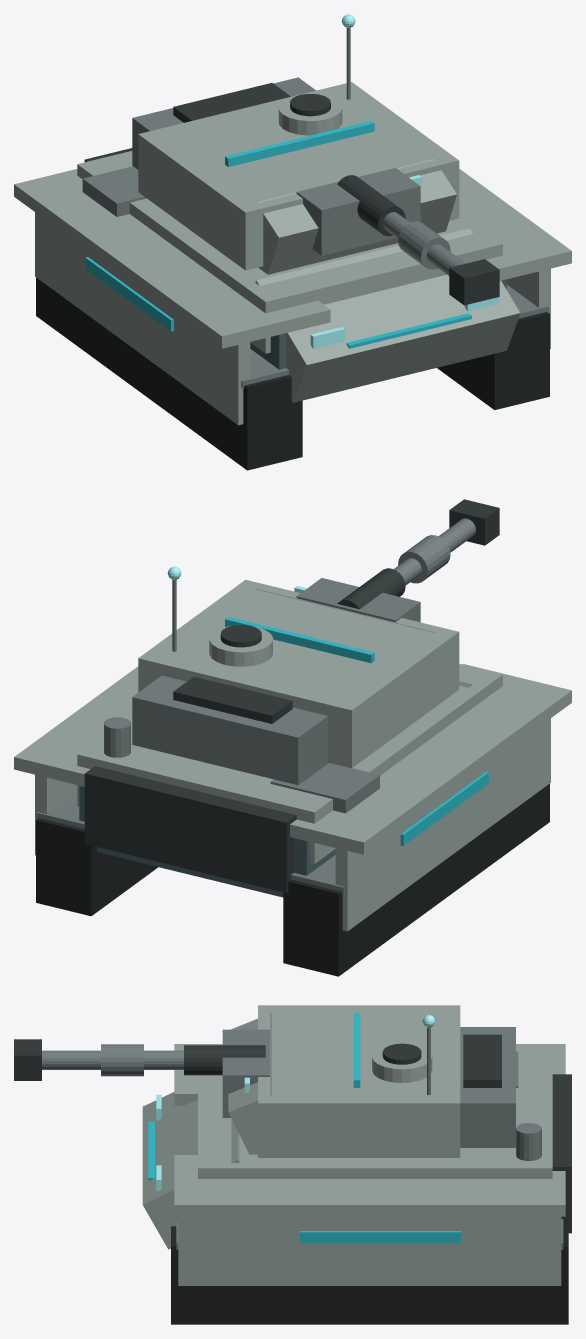
File: vanguard_tank.glb
3 views of the same model, one above another, from view 1: azimuth 30°, elevation 25°; view 2: azimuth 150°, elevation 25°; view 3: azimuth 270°, elevation 25° (orthographic). The views are drawn at different scales.
Parts seen in each view (by area): view 1: turret_shell, hull_glacis, hull_fender_l, track_l_base, hull_skirt_l, hull_upper, track_r_base, turret_front, turret_mantlet, hull_fender_r, turret_stow, hull_toolbox (+13 smaller); view 2: turret_shell, hull_rear, hull_fender_l, track_l_base, hull_skirt_l, turret_bustle, hull_upper, track_r_base, hull_fender_r, turret_stow, hull_toolbox, turret_mantlet (+13 smaller); view 3: turret_shell, hull_skirt_r, track_r_base, hull_fender_r, hull_upper, hull_glacis, turret_bustle, turret_mantlet, hull_rear, turret_stow, barrel_tube, team_stripe_skirt_r (+10 smaller).
Boxes of the visible parts, x1=… form: turret_shell: x1=138, y1=82, x2=459, y2=270; hull_glacis: x1=255, y1=228, x2=520, y2=402; hull_fender_l: x1=14, y1=169, x2=330, y2=348; track_l_base: x1=36, y1=277, x2=302, y2=470; hull_skirt_l: x1=35, y1=212, x2=250, y2=425; hull_upper: x1=77, y1=151, x2=502, y2=353; track_r_base: x1=437, y1=312, x2=549, y2=410; turret_front: x1=256, y1=159, x2=456, y2=274; turret_mantlet: x1=296, y1=168, x2=420, y2=255; hull_fender_r: x1=459, y1=169, x2=571, y2=280; turret_stow: x1=173, y1=83, x2=290, y2=122; hull_toolbox: x1=82, y1=166, x2=146, y2=216; turret_shell: x1=138, y1=579, x2=459, y2=768; hull_rear: x1=84, y1=766, x2=296, y2=892; hull_fender_l: x1=290, y1=664, x2=571, y2=854; track_l_base: x1=283, y1=783, x2=549, y2=976; hull_skirt_l: x1=335, y1=718, x2=550, y2=931; turret_bustle: x1=132, y1=675, x2=328, y2=785; hull_upper: x1=77, y1=664, x2=502, y2=863; track_r_base: x1=36, y1=818, x2=158, y2=916; hull_fender_r: x1=14, y1=666, x2=138, y2=786; turret_stow: x1=173, y1=676, x2=292, y2=723; hull_toolbox: x1=270, y1=763, x2=379, y2=813; turret_mantlet: x1=296, y1=578, x2=420, y2=622; turret_shell: x1=258, y1=1005, x2=460, y2=1157; hull_skirt_r: x1=178, y1=1216, x2=561, y2=1285; track_r_base: x1=171, y1=1223, x2=568, y2=1324; hull_fender_r: x1=174, y1=1155, x2=565, y2=1216; hull_upper: x1=198, y1=1059, x2=552, y2=1178; hull_glacis: x1=142, y1=1092, x2=239, y2=1249; turret_bustle: x1=460, y1=1027, x2=515, y2=1147; turret_mantlet: x1=222, y1=1029, x2=269, y2=1117; hull_rear: x1=552, y1=1074, x2=571, y2=1233; turret_stow: x1=463, y1=1034, x2=501, y2=1087; barrel_tube: x1=42, y1=1050, x2=183, y2=1069; team_stripe_skirt_r: x1=300, y1=1231, x2=461, y2=1242.
Size of what is drawn, in the model's own units: 3.54 by 2.87 by 5.19.
